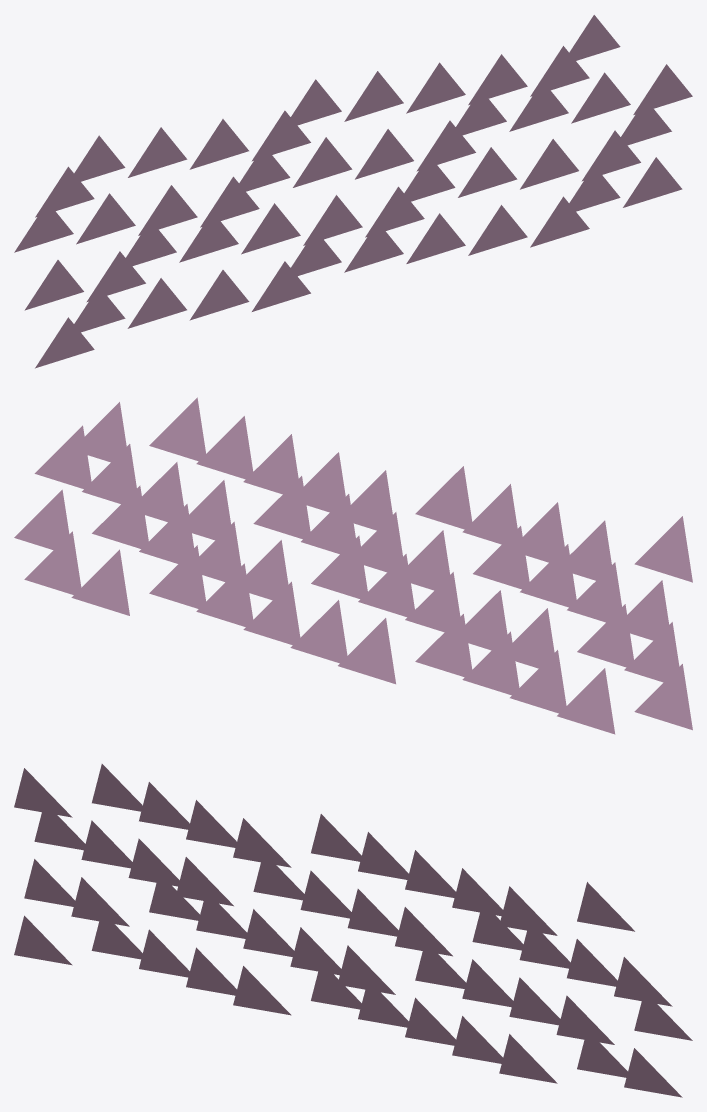
Rendered from prop_bulk_gen_0221_lod0.gltf.
The picture shows the model from 3 angles, top to bottom: view 1: azimuth 30°, elevation 25°; view 2: azimuth 150°, elevation 25°; view 3: azimuth 330°, elevation 25°; orthographic projection. The views are drawn at different scales.
Parts seen in each view (by area): view 1: prop_bulk_gen_0221_lod0; view 2: prop_bulk_gen_0221_lod0; view 3: prop_bulk_gen_0221_lod0.
Boxes of the visible parts, <box> form: prop_bulk_gen_0221_lod0: <box>14,15,692,368</box>; prop_bulk_gen_0221_lod0: <box>14,397,692,734</box>; prop_bulk_gen_0221_lod0: <box>14,764,692,1097</box>.
Size of the model in its own units: 0.665 by 0.196 by 0.068.
